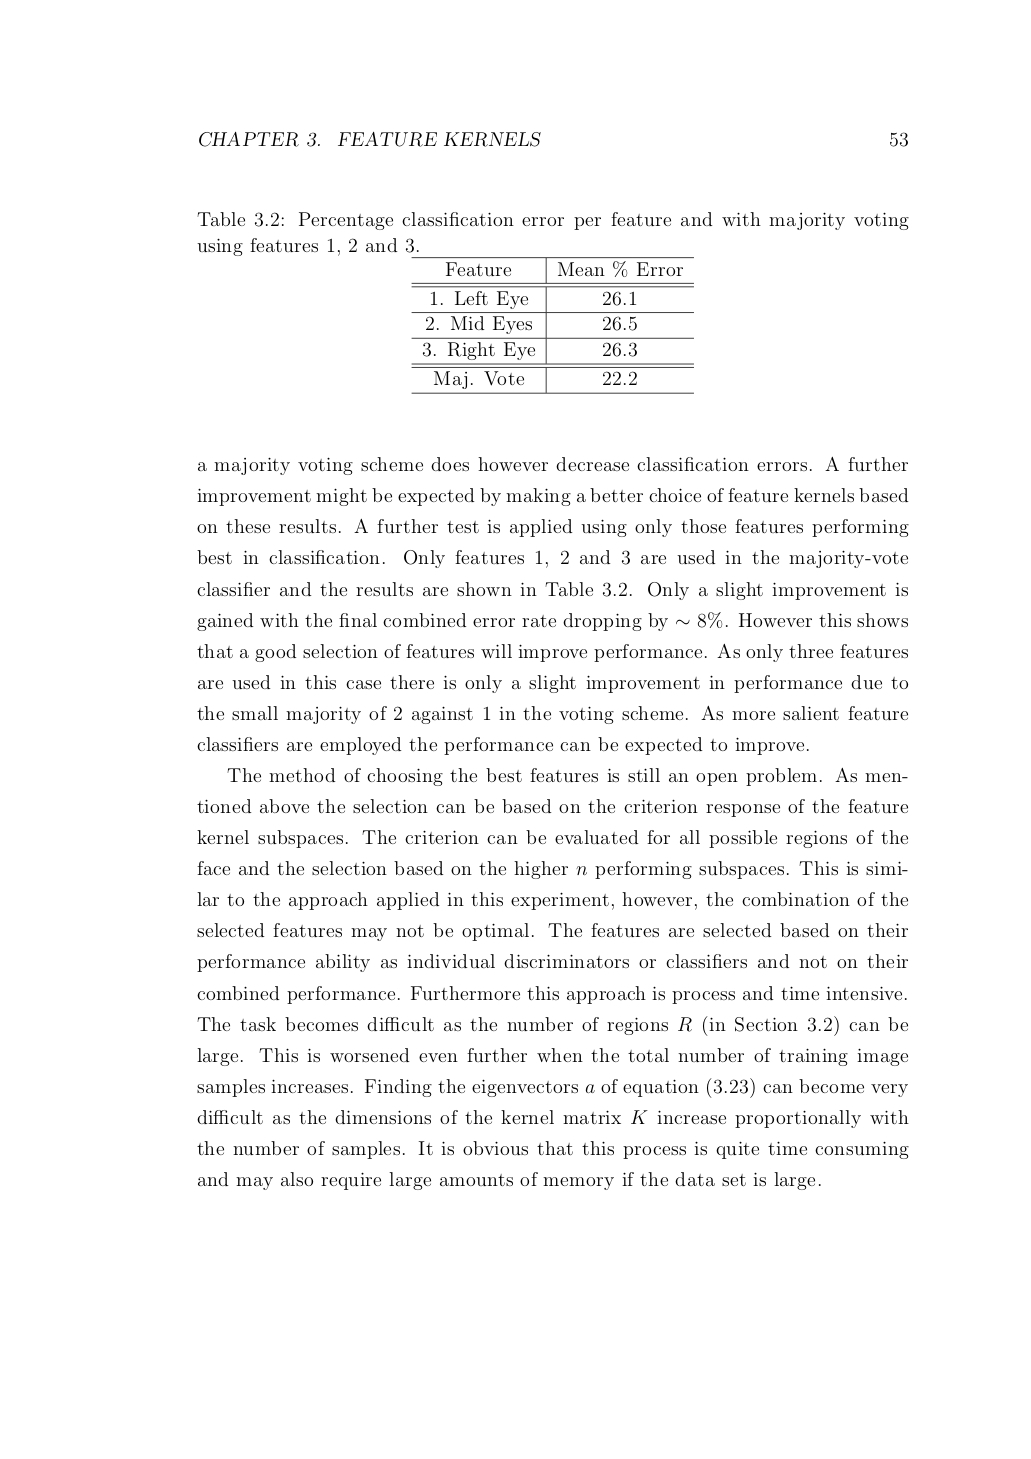Table: (411, 257, 693, 393)
